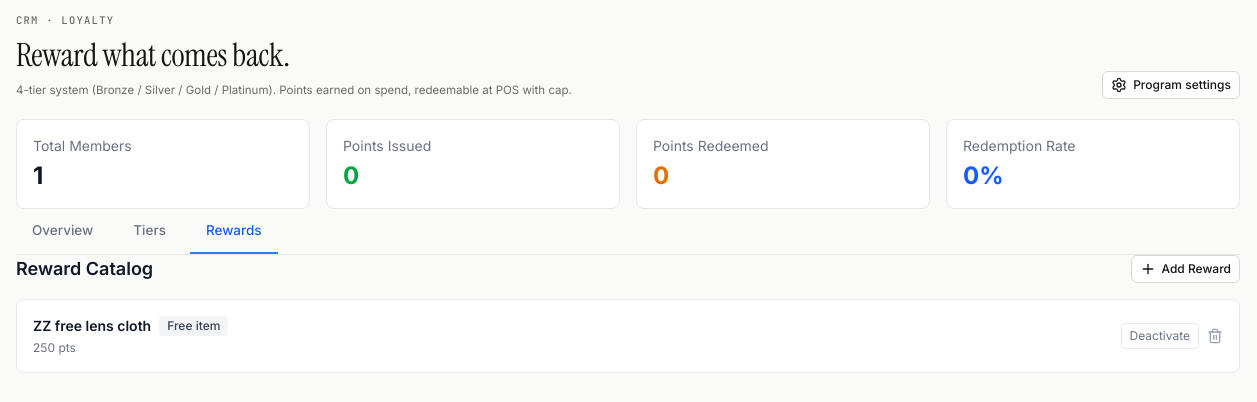
Scenario: delete reward › removes the row and toasts
Expected: the text "ZZ free lens cloth" is shown, [33,316,151,336]
Click the button named "Delete reward". click: {"x": 1215, "y": 336}
box: [1207,328,1223,344]
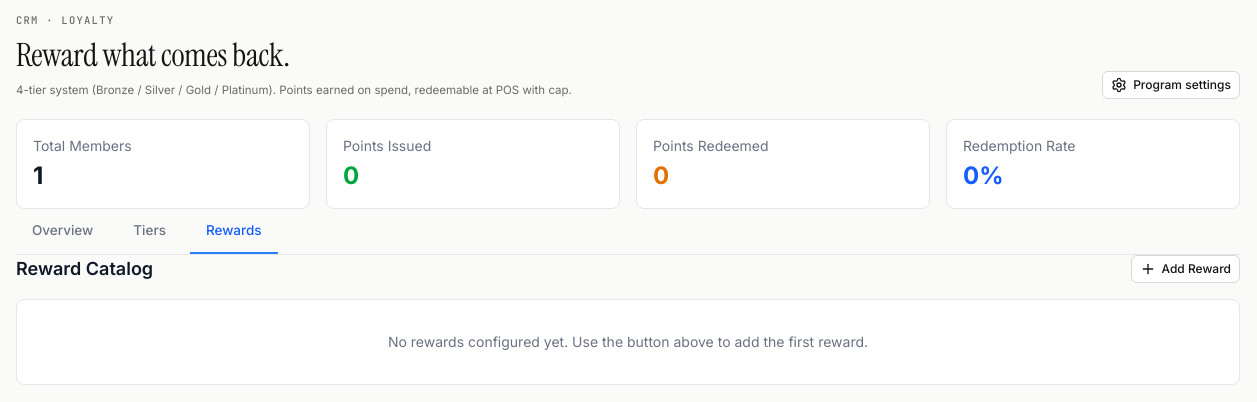
Now the text "ZZ free lens cloth" is gone
